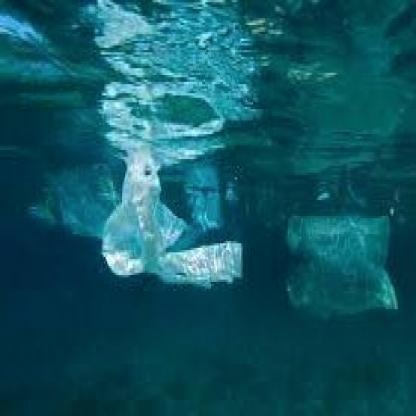pbag: (26, 172, 246, 288), (279, 211, 399, 320)
